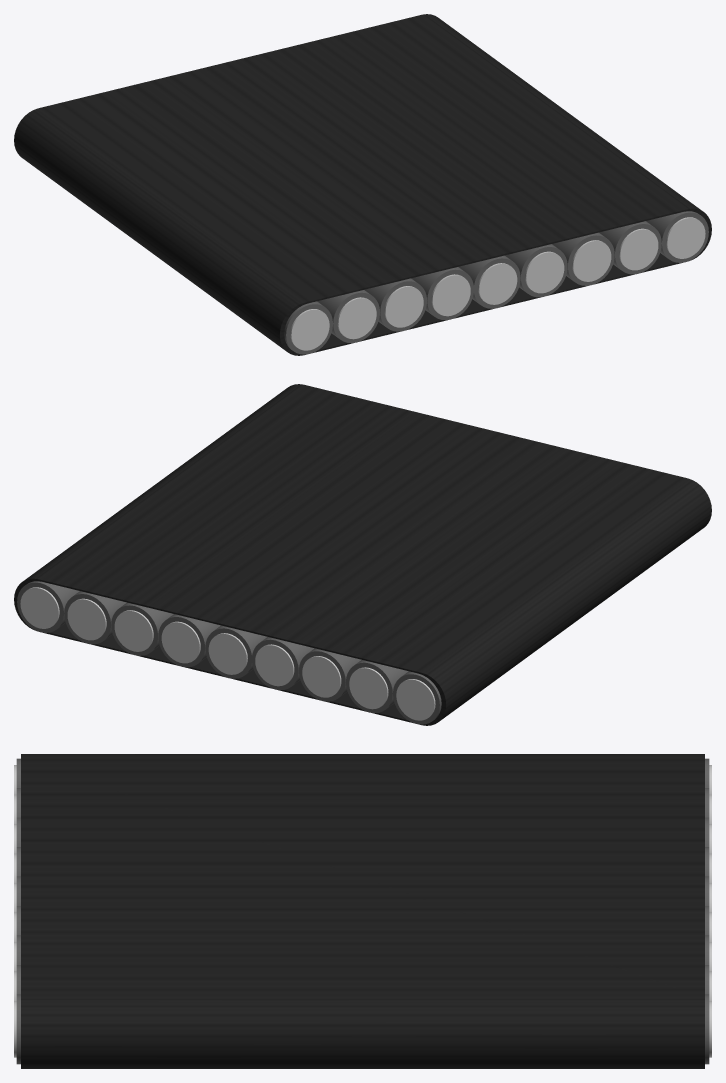
Rendered from conveyor_belt_static.fbx.
The picture shows the model from 3 angles, top to bottom: view 1: azimuth 30°, elevation 25°; view 2: azimuth 150°, elevation 25°; view 3: azimuth 270°, elevation 25°; orthographic projection. The views are drawn at different scales.
Parts seen in each view (by area): view 1: conveyor_static; view 2: conveyor_static; view 3: conveyor_static.
Part boxes in pixels (x1=…): conveyor_static: x1=14, y1=14, x2=711, y2=355; conveyor_static: x1=14, y1=384, x2=711, y2=725; conveyor_static: x1=14, y1=754, x2=711, y2=1068.
Size of the model in its own units: 1606 by 186 by 1746.
